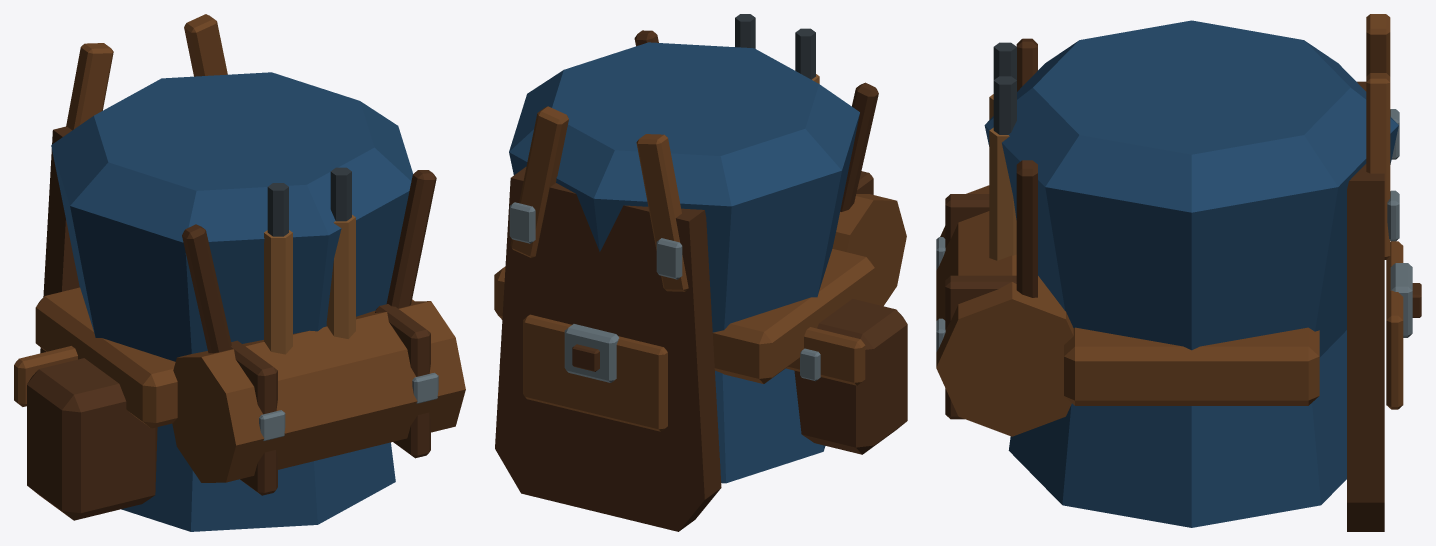
The model's file is Body.glb.
3 renders of one model, left to right at view 1: azimuth 30°, elevation 25°; view 2: azimuth 150°, elevation 25°; view 3: azimuth 270°, elevation 25°, orthographic. The views are drawn at different scales.
Visible parts, largest first — view 1: Sculpture; view 2: Sculpture; view 3: Sculpture.
Part boxes in pixels (bbox=[...]): Sculpture: bbox=[14, 14, 465, 531]; Sculpture: bbox=[494, 14, 907, 531]; Sculpture: bbox=[936, 14, 1421, 531].
Bounding box in the file's own units: 0.67 × 0.7059 × 0.703.
